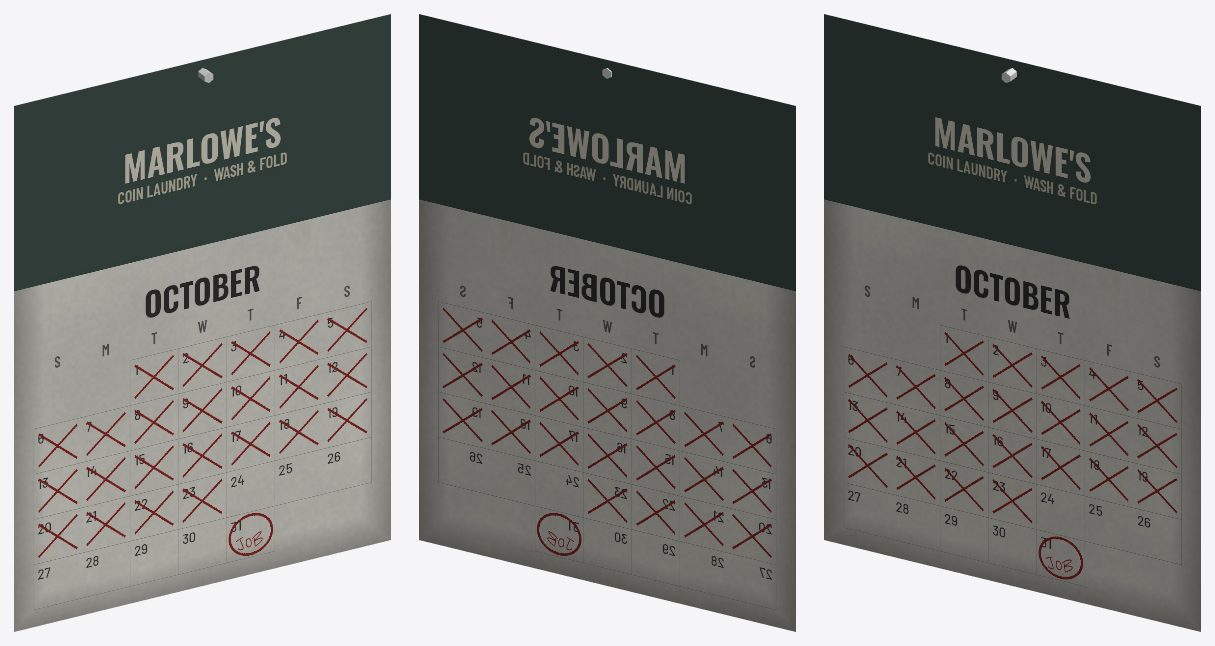
The model's file is SM_Calendar.fbx.
3 views of the same model, side by side, from view 1: azimuth 30°, elevation 25°; view 2: azimuth 150°, elevation 25°; view 3: azimuth 330°, elevation 25° (orthographic).
Parts seen in each view (by area): view 1: SM_Calendar_1; view 2: SM_Calendar_1; view 3: SM_Calendar_1.
Boxes of the visible parts, <box> form: SM_Calendar_1: <box>14,14,390,631</box>; SM_Calendar_1: <box>419,14,795,631</box>; SM_Calendar_1: <box>824,14,1200,631</box>.
Size of the model in its own units: 30 by 40 by 1.
